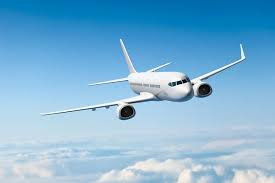maybay_dansu: (51, 52, 259, 116)
